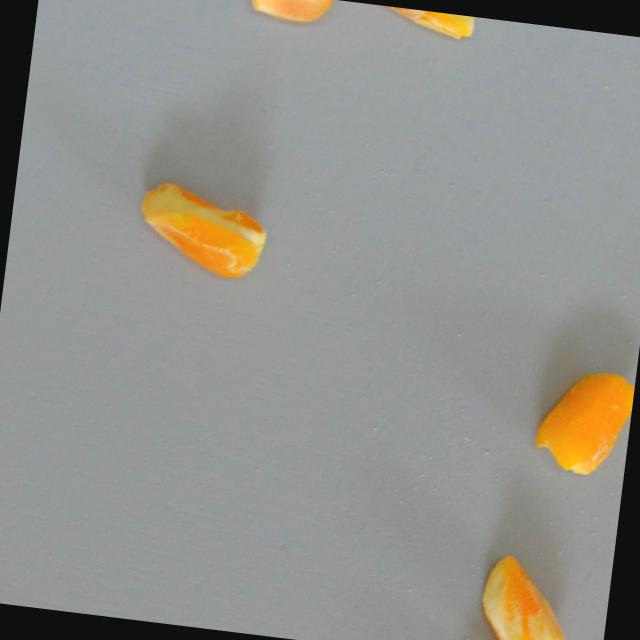pelicula: (130, 179, 273, 283), (529, 361, 636, 481), (473, 545, 581, 640), (359, 3, 478, 40), (248, 0, 336, 28)
